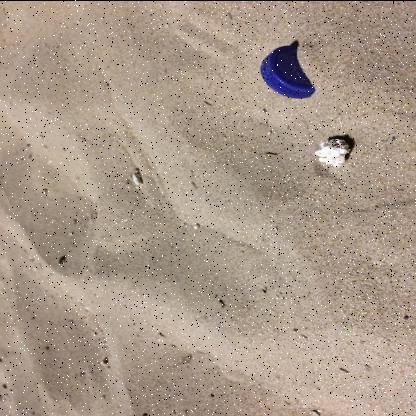foam: (314, 138, 350, 166)
plastic: (260, 44, 316, 98)
